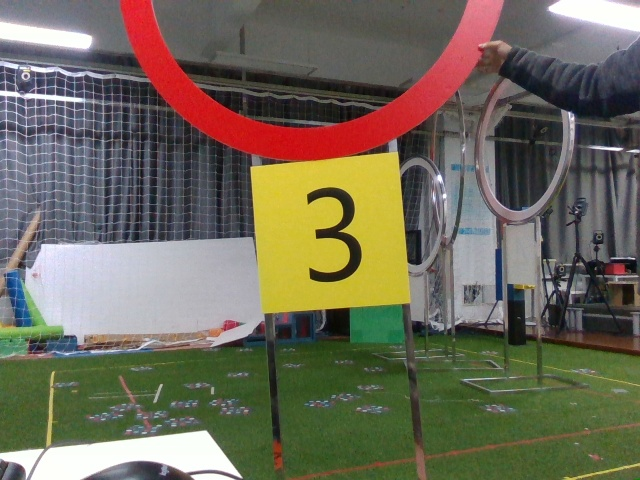target: (253, 162, 408, 301)
